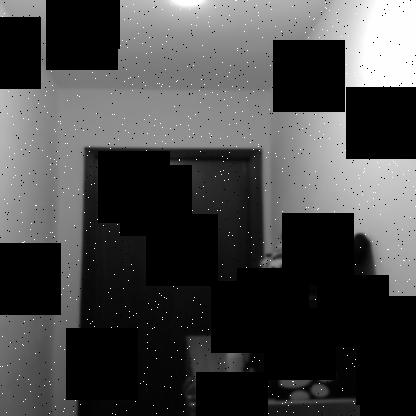Porte: (73, 144, 267, 415)
